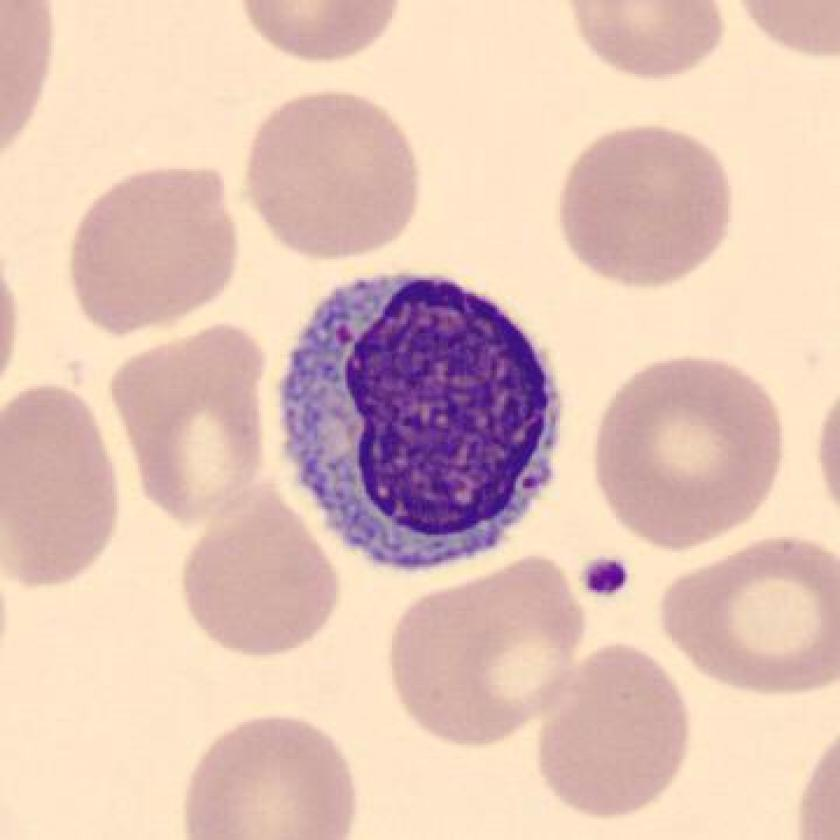lymphocyte: (267, 263, 573, 580)
